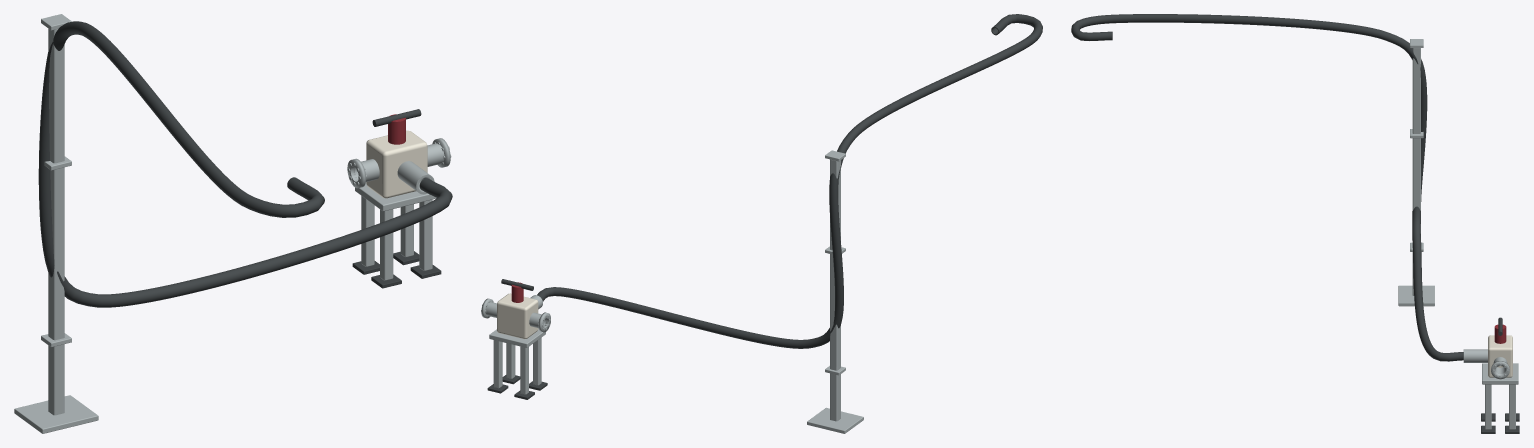
File: pneumatic-tube-mail-exchange-pneumatic-tube-mail-excha-e1ce2cfd__32297.glb
3 views of the same model, side by side, from view 1: azimuth 30°, elevation 25°; view 2: azimuth 150°, elevation 25°; view 3: azimuth 270°, elevation 25° (orthographic). The views are drawn at different scales.
Visible parts, largest first — view 1: pneumatic-tube-mail-exchange-air-reversing-valve; view 2: pneumatic-tube-mail-exchange-air-reversing-valve; view 3: pneumatic-tube-mail-exchange-air-reversing-valve.
Boxes of the visible parts, x1,y1,x2,y2 form: pneumatic-tube-mail-exchange-air-reversing-valve: [14, 14, 452, 433]; pneumatic-tube-mail-exchange-air-reversing-valve: [481, 14, 1042, 433]; pneumatic-tube-mail-exchange-air-reversing-valve: [1071, 14, 1519, 433].
Bounding box in the file's own units: 3.64 × 2.87 × 4.29.
